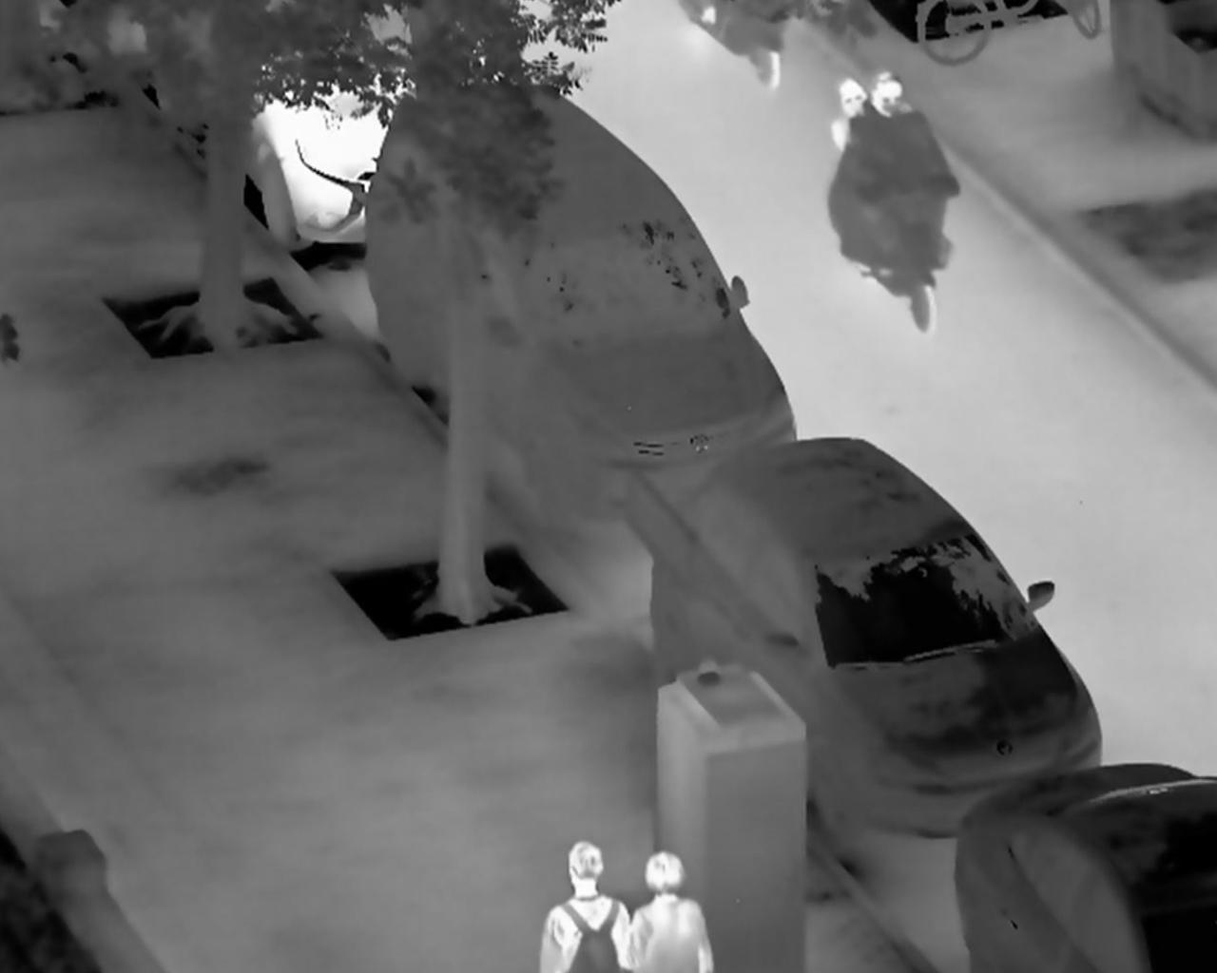person: (541, 837, 631, 973), (628, 849, 709, 973)
